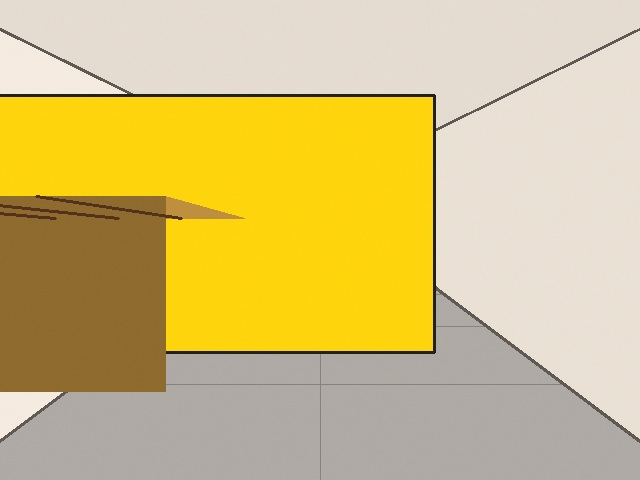directional_sign: (229, 133, 335, 186)
forklift: (0, 95, 434, 352)
pallet: (0, 196, 244, 391)
